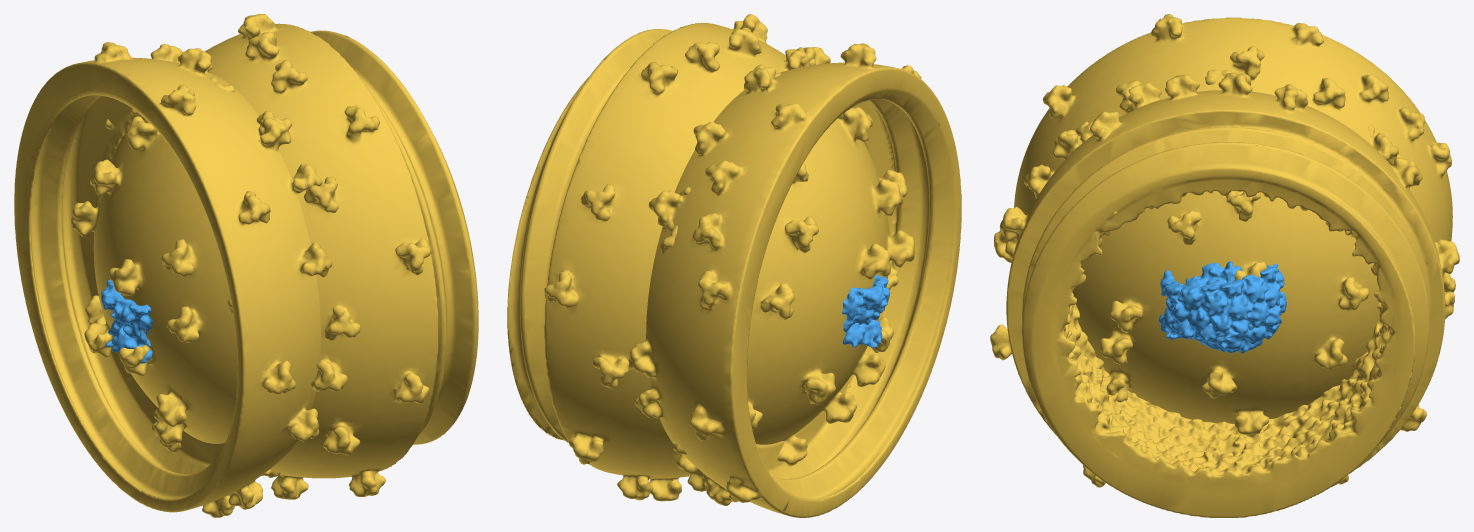
File: vih.glb
The picture shows the model from 3 angles, left to right: view 1: azimuth 30°, elevation 25°; view 2: azimuth 150°, elevation 25°; view 3: azimuth 270°, elevation 25°; orthographic projection. The views are drawn at different scales.
Parts seen in each view (by area): view 1: Invólucro (metade A), Invólucro (metade B), Cápside (metade B), Cápside (metade A); view 2: Invólucro (metade A), Invólucro (metade B), Cápside (metade B), Cápside (metade A); view 3: Invólucro (metade A), Invólucro (metade B), Cápside (metade B), Cápside (metade A).
Boxes of the visible parts, <box> form: Invólucro (metade A): <box>71,14,478,499</box>; Invólucro (metade B): <box>14,42,332,517</box>; Cápside (metade B): <box>101,279,153,338</box>; Cápside (metade A): <box>105,320,152,363</box>; Invólucro (metade A): <box>507,14,914,501</box>; Invólucro (metade B): <box>628,43,961,517</box>; Cápside (metade B): <box>842,275,890,332</box>; Cápside (metade A): <box>843,319,883,347</box>; Invólucro (metade A): <box>990,69,1459,517</box>; Invólucro (metade B): <box>994,14,1455,437</box>; Cápside (metade B): <box>1160,263,1286,353</box>; Cápside (metade A): <box>1159,261,1281,341</box>.
Bounding box in the file's own units: 8309 × 12606 × 12728.
